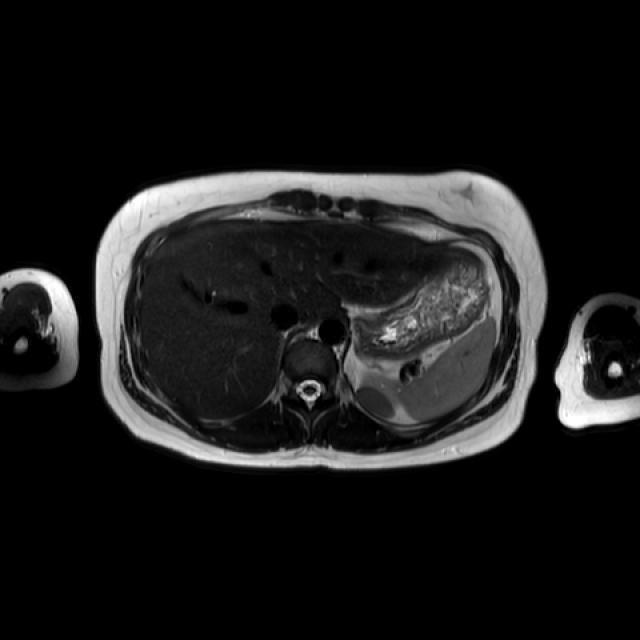sol: (357, 368, 403, 421)
